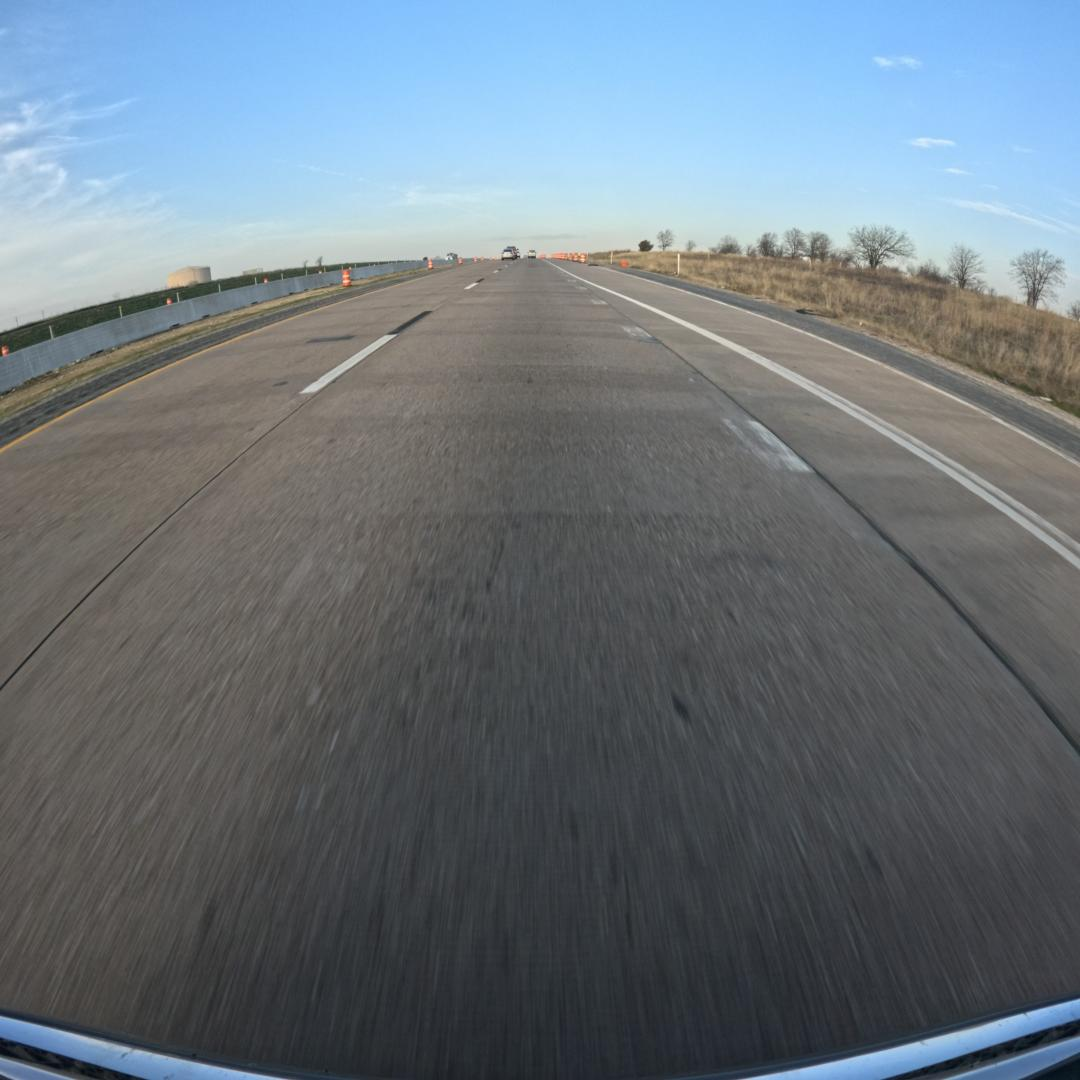lane0: (0, 262, 1080, 1077)
lane1: (0, 261, 505, 692)
